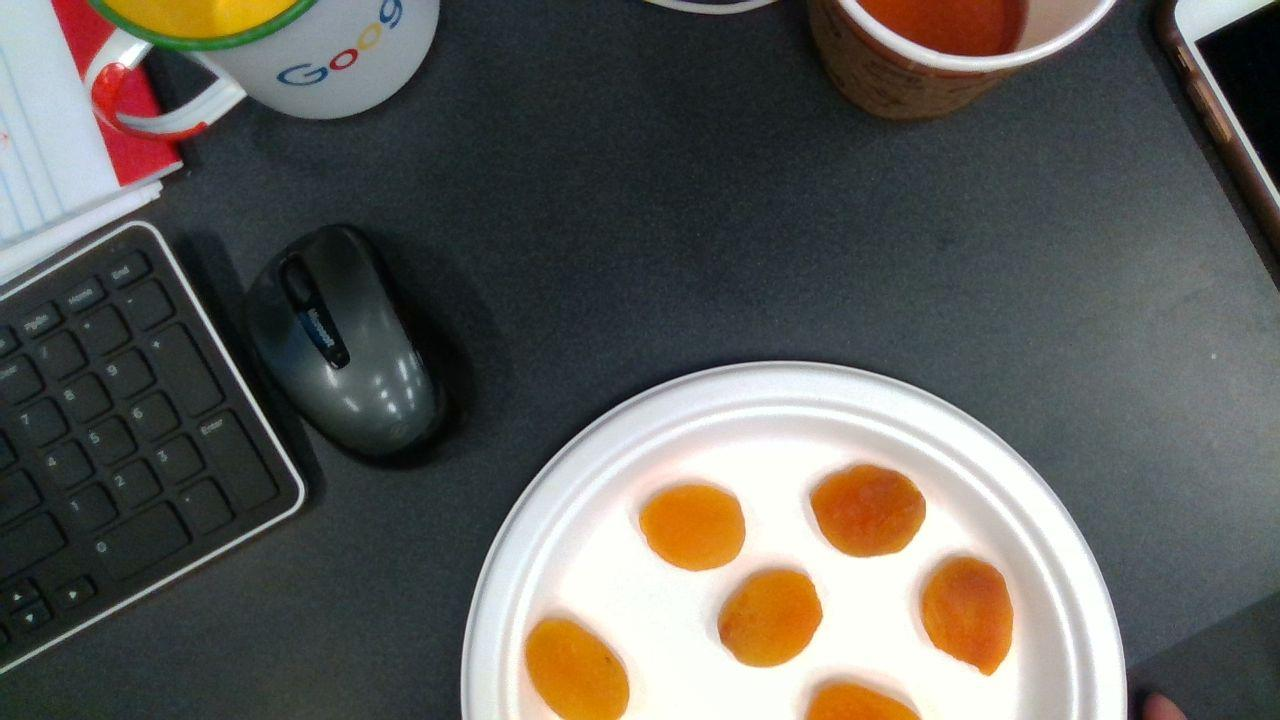apricot: (922, 557, 1012, 674), (717, 570, 824, 668), (527, 619, 630, 720), (810, 467, 925, 556), (640, 486, 745, 570)
plate: (460, 359, 1127, 720)
